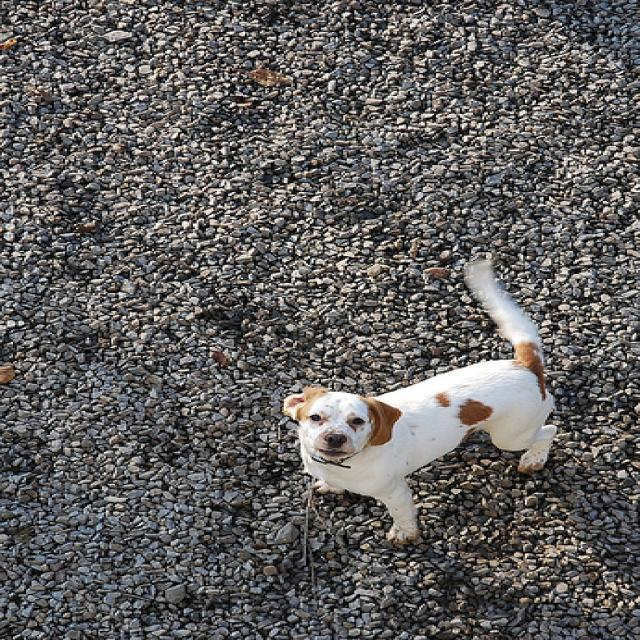dog-beagle: (276, 246, 564, 545)
